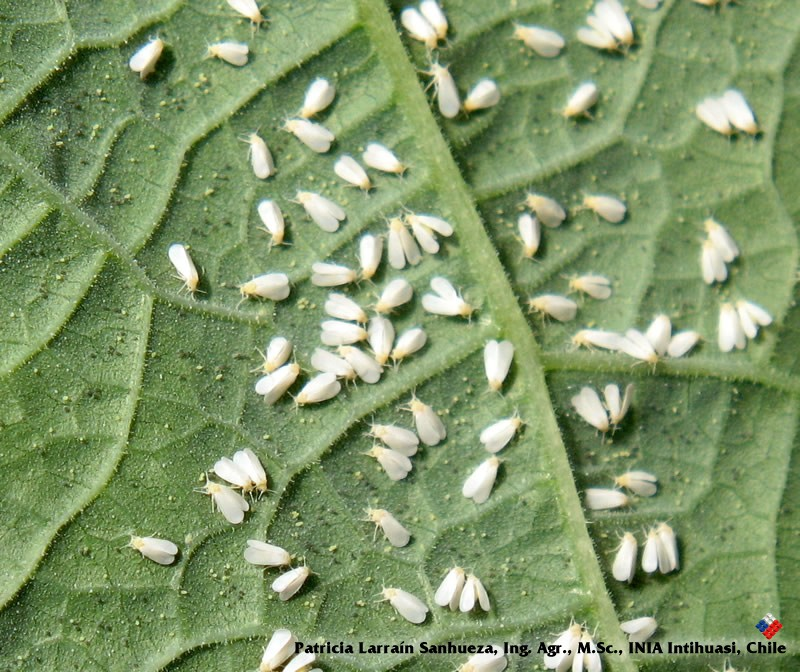whitefly: (194, 471, 250, 527), (396, 386, 447, 444), (397, 202, 452, 255), (415, 56, 461, 119), (255, 348, 306, 404), (424, 275, 478, 321), (233, 446, 277, 502), (361, 501, 410, 551), (592, 1, 640, 52), (362, 415, 419, 457), (372, 579, 427, 622), (477, 338, 514, 401), (570, 385, 612, 440), (479, 409, 530, 454), (278, 113, 335, 153), (719, 89, 764, 139), (362, 438, 413, 482), (294, 190, 347, 232), (381, 214, 421, 269), (288, 372, 342, 412), (271, 556, 319, 601), (462, 454, 505, 504), (311, 346, 361, 388), (128, 32, 172, 79), (239, 126, 276, 181), (574, 186, 626, 225), (211, 457, 258, 500), (168, 244, 204, 300), (699, 212, 739, 262), (337, 341, 382, 385), (333, 156, 380, 198), (512, 19, 560, 60), (255, 628, 299, 672), (692, 97, 737, 140), (242, 538, 296, 573), (120, 532, 177, 565), (578, 17, 625, 57), (432, 555, 466, 610), (324, 293, 375, 329), (732, 294, 773, 338), (399, 6, 439, 51), (236, 272, 291, 304), (620, 329, 660, 373), (363, 143, 411, 179), (522, 190, 566, 229), (257, 201, 289, 254), (525, 293, 579, 323), (390, 327, 428, 369), (567, 327, 622, 356), (608, 525, 636, 581), (460, 562, 491, 612), (254, 335, 289, 379), (612, 465, 659, 497), (421, 1, 453, 48), (717, 298, 745, 351), (558, 82, 598, 119), (640, 523, 669, 574), (300, 78, 336, 119), (580, 487, 634, 514), (373, 278, 413, 314), (697, 236, 726, 285), (354, 235, 384, 281), (560, 274, 613, 300), (654, 517, 679, 572), (605, 383, 634, 429), (512, 213, 540, 260), (311, 263, 363, 288), (320, 319, 371, 344), (370, 314, 394, 367), (645, 310, 671, 358), (203, 40, 249, 67), (665, 328, 703, 359), (463, 80, 498, 113), (620, 613, 661, 641)
